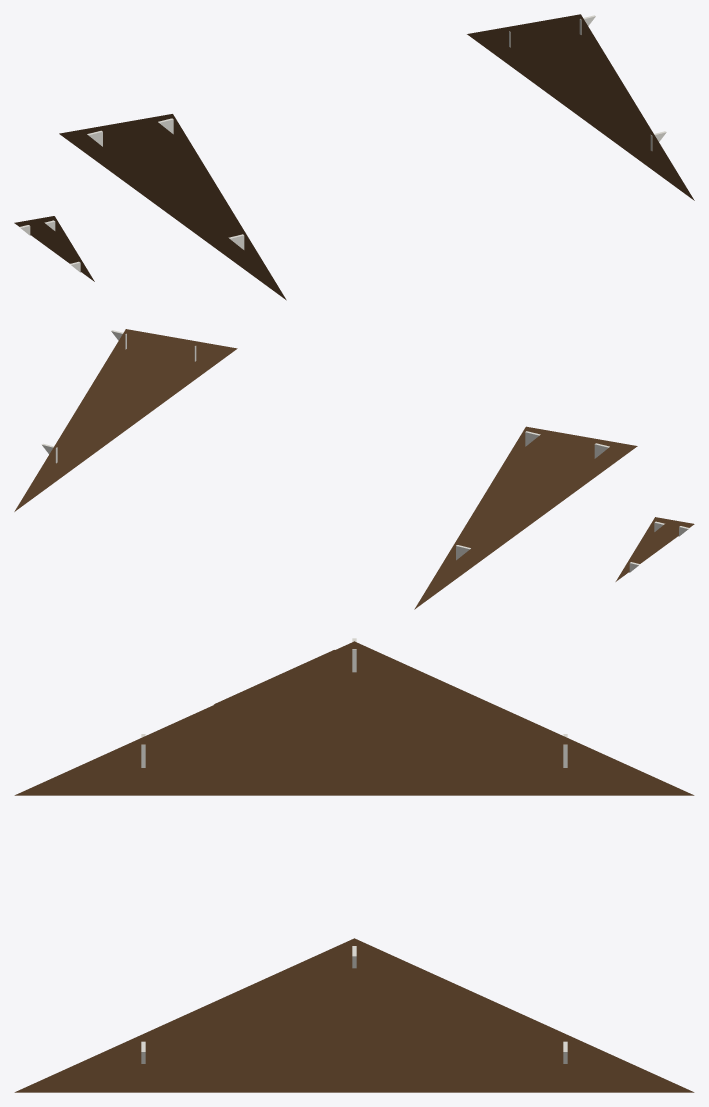
The model's file is gable-dressing.glb.
The picture shows the model from 3 angles, top to bottom: view 1: azimuth 30°, elevation 25°; view 2: azimuth 150°, elevation 25°; view 3: azimuth 270°, elevation 25°; orthographic projection. The views are drawn at different scales.
Parts seen in each view (by area): view 1: gable-dressing; view 2: gable-dressing; view 3: gable-dressing.
Boxes of the visible parts, x1,y1,x2,y2 form: gable-dressing: [14, 14, 694, 300]; gable-dressing: [14, 329, 694, 609]; gable-dressing: [14, 638, 694, 1092].
Size of the model in its own units: 47.93 by 8.63 by 34.03.
